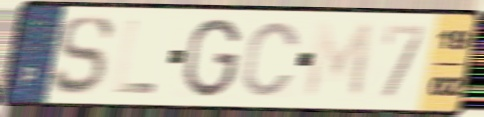7: (378, 22, 427, 103)
C: (239, 19, 303, 100)
G: (181, 16, 244, 100)
L: (112, 17, 158, 96)
M: (301, 19, 377, 101)
S: (49, 13, 116, 98)
